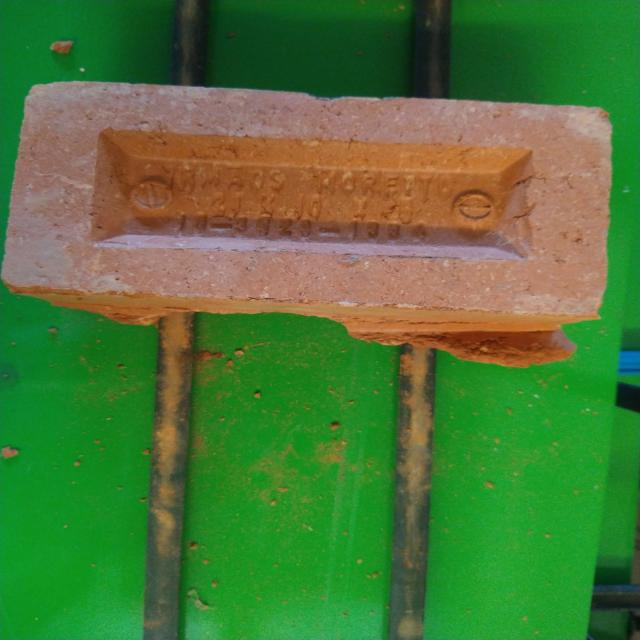bricks_ruin: (0, 80, 615, 367)
